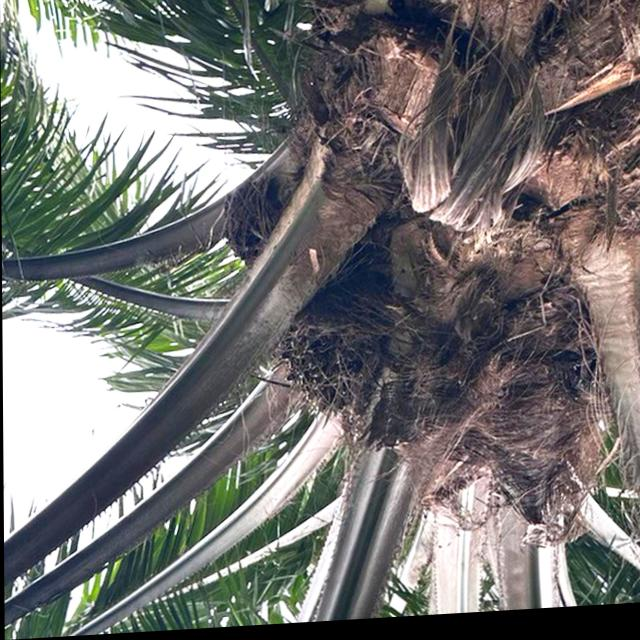unripe: (272, 261, 396, 440)
